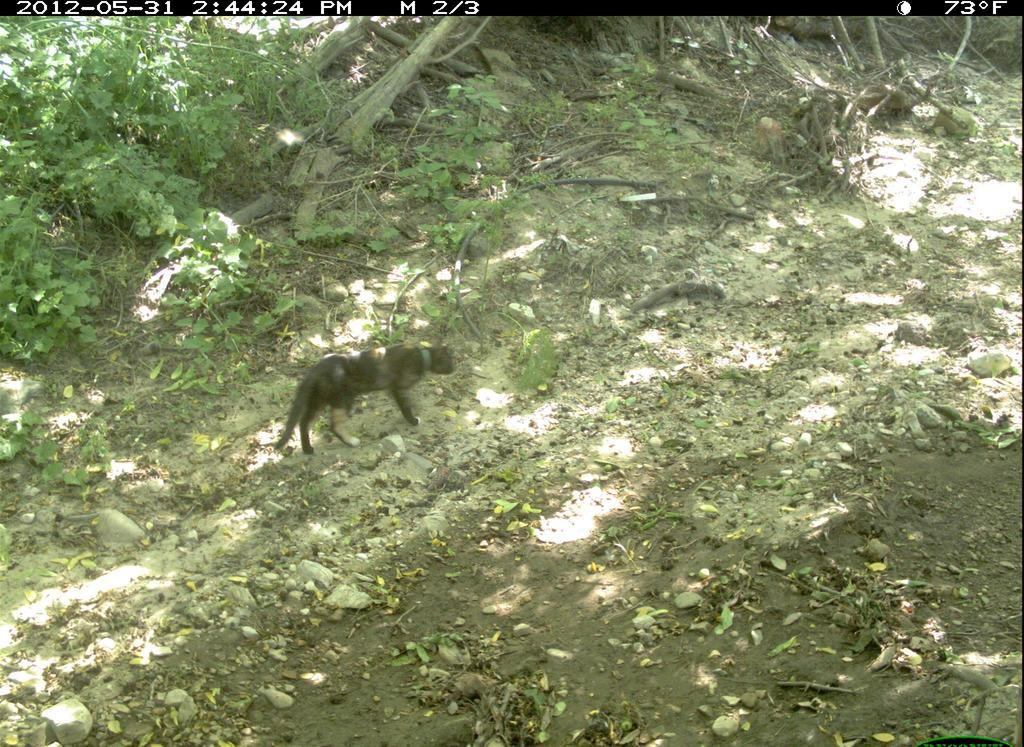cat: (262, 319, 472, 472)
